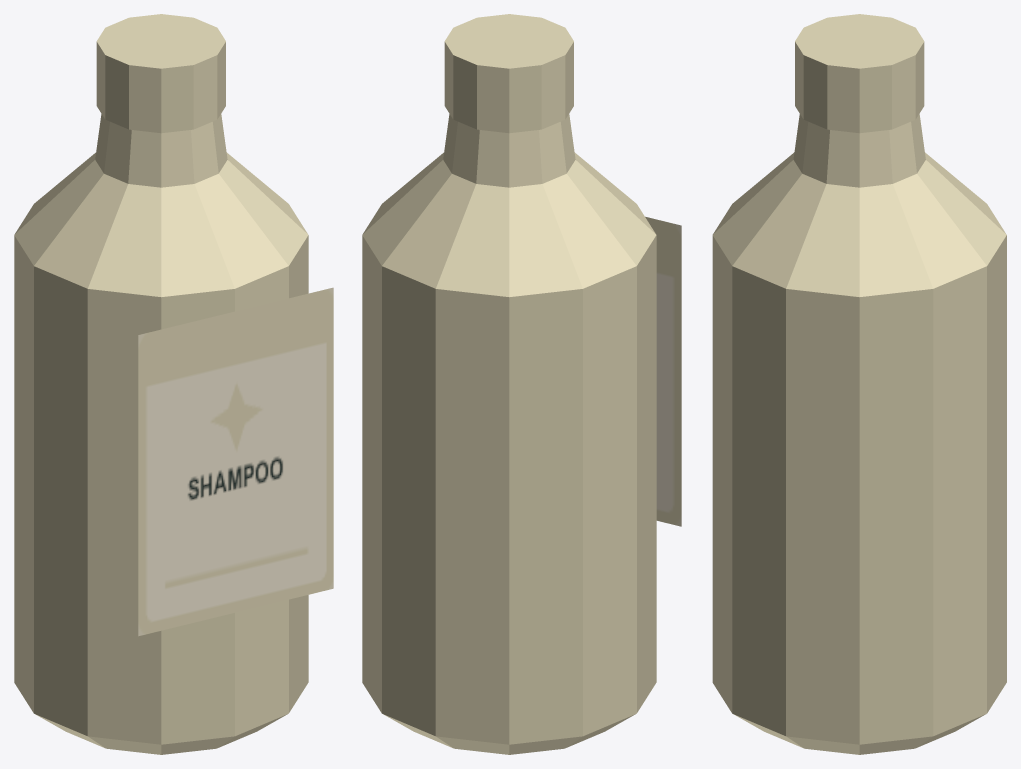
Rendered from shampoo.fbx.
3 views of the same model, side by side, from view 1: azimuth 30°, elevation 25°; view 2: azimuth 150°, elevation 25°; view 3: azimuth 270°, elevation 25° (orthographic).
Visible parts, largest first — view 1: shampoo; view 2: shampoo; view 3: shampoo.
Boxes of the visible parts, box(x1,y1,x2,y2) form: shampoo: box(14, 14, 333, 754); shampoo: box(362, 14, 681, 754); shampoo: box(712, 14, 1006, 754).
Size of the model in its own units: 12.4 by 31 by 12.5.
